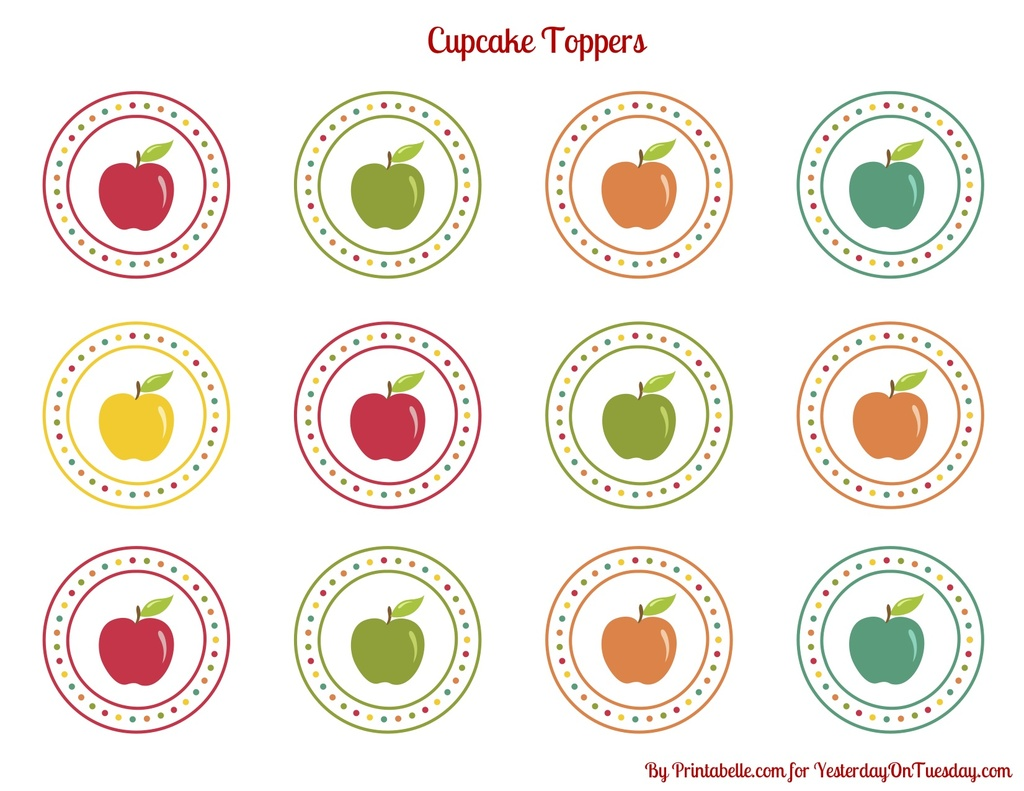Apple: (94, 144, 174, 230), (846, 603, 926, 686), (599, 602, 677, 686), (847, 147, 924, 232), (599, 147, 677, 229), (349, 378, 425, 461), (347, 146, 424, 227), (851, 379, 926, 462), (346, 606, 423, 684), (96, 384, 172, 463), (96, 605, 171, 684), (602, 381, 674, 457)
